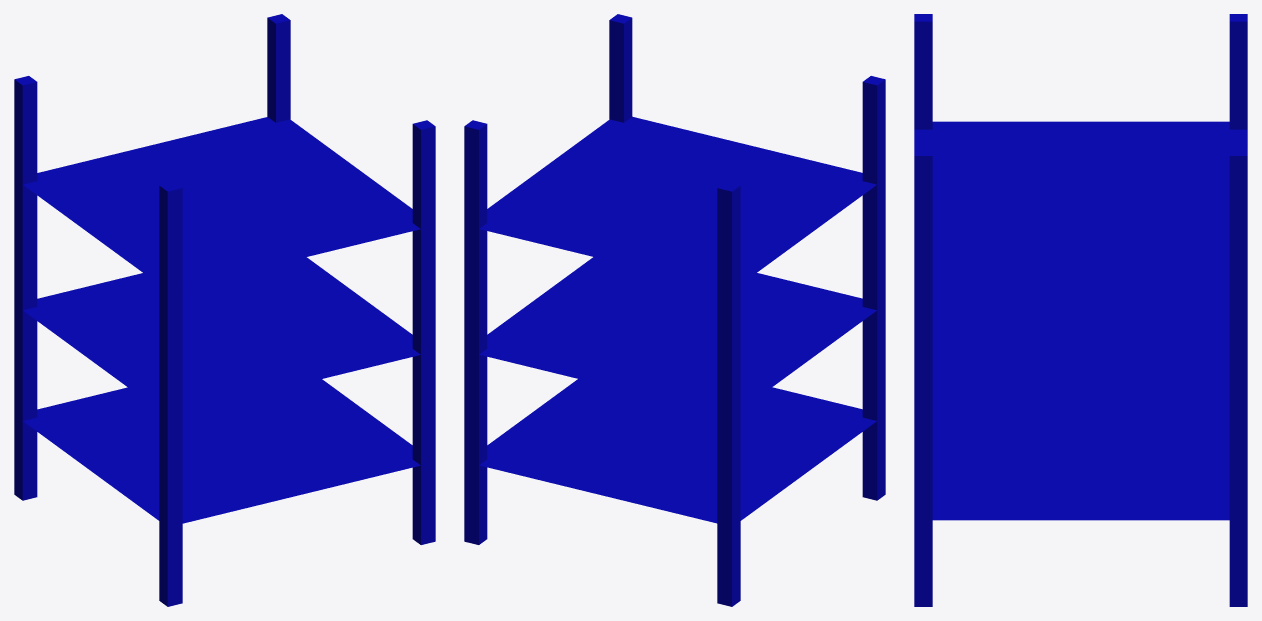
Rendered from shelf3.glb.
The picture shows the model from 3 angles, left to right: view 1: azimuth 30°, elevation 25°; view 2: azimuth 150°, elevation 25°; view 3: azimuth 270°, elevation 25°; orthographic projection. The views are drawn at different scales.
Size of the model in its own units: 1.2 by 1.77 by 1.19.
